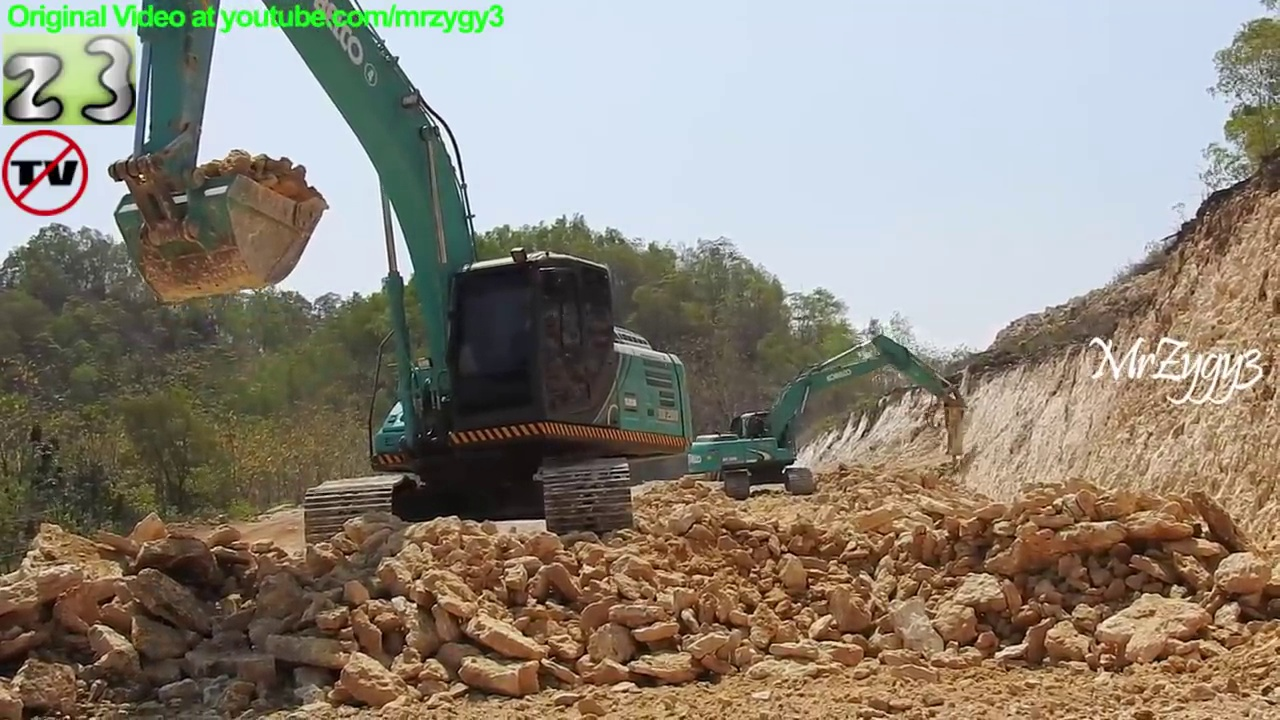excavator: (101, 1, 698, 578)
excavator breaker: (678, 327, 975, 505)
